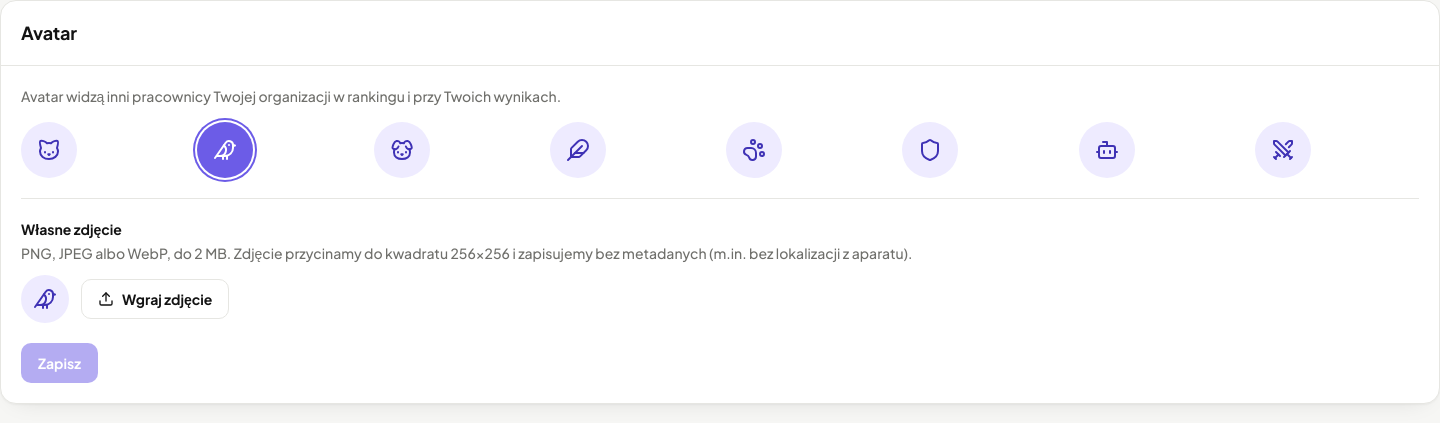
Test: AvatarSettings (ustawienia konta) › "Zapisz" jest nieaktywny, dopóki wybór nie różni się od zapisanego
Check: the button "Zapisz" is disabled, box [21,343,98,383]
What coordinates should you click on to do the following:
click the button named "fox"
I would click on:
 (49, 150)
Its box is [21,122,77,178].
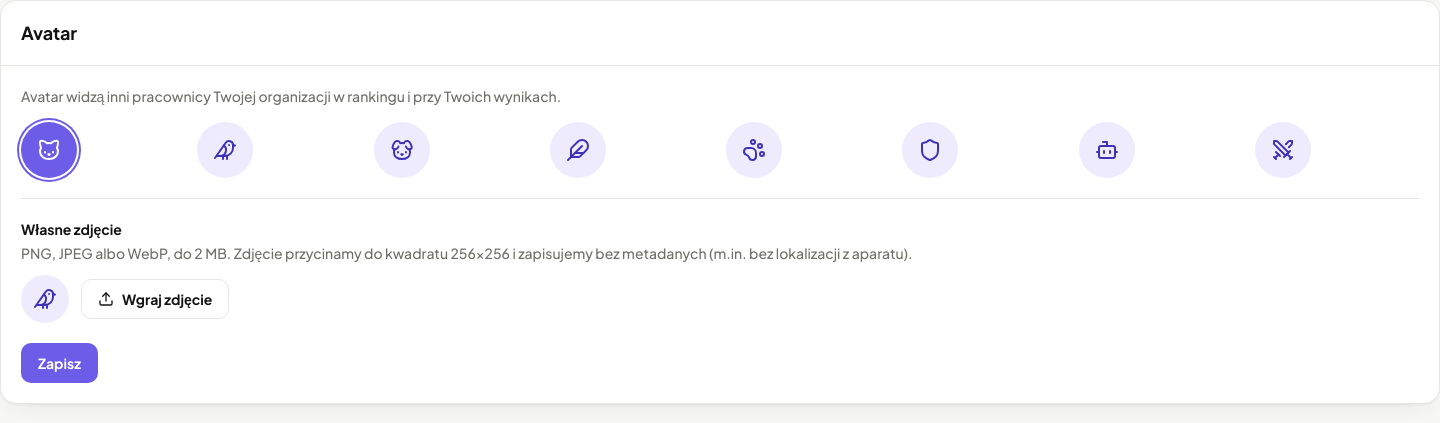
Check: the button "Zapisz" is enabled, box [21,343,98,383]
